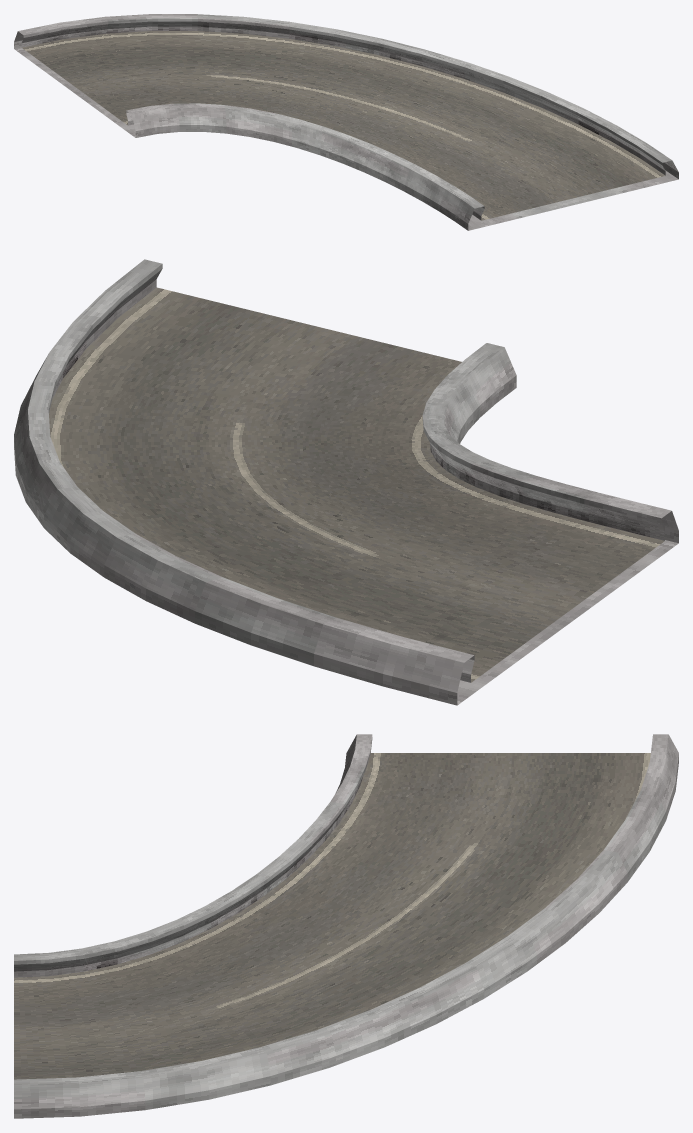
File: turn-left2x2.glb
The picture shows the model from 3 angles, top to bottom: view 1: azimuth 30°, elevation 25°; view 2: azimuth 150°, elevation 25°; view 3: azimuth 270°, elevation 25°; orthographic projection. The views are drawn at different scales.
Parts seen in each view (by area): view 1: road-Turn-Flat-Flat-Up1-Left-Size2; view 2: road-Turn-Flat-Flat-Up1-Left-Size2; view 3: road-Turn-Flat-Flat-Up1-Left-Size2.
Boxes of the visible parts, x1,y1,x2,y2 form: road-Turn-Flat-Flat-Up1-Left-Size2: (14,14,678,230); road-Turn-Flat-Flat-Up1-Left-Size2: (14,259,678,705); road-Turn-Flat-Flat-Up1-Left-Size2: (14,734,678,1118).
Bounding box in the file's own units: 2 × 0.3438 × 2.
Materials: 2 (2 with a texture image).
